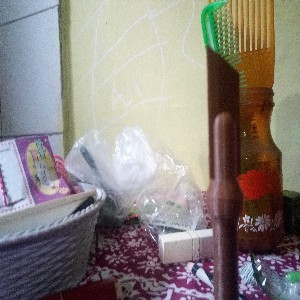cutter: (205, 43, 242, 300)
